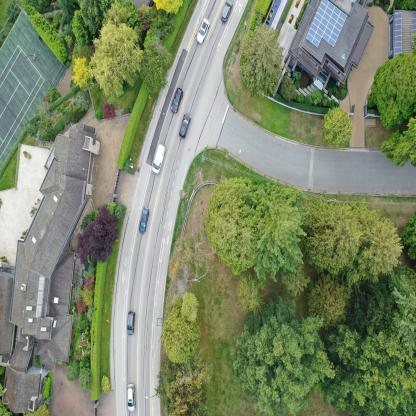Coniferous Tree: (250, 188, 310, 284), (150, 344, 202, 416), (307, 200, 357, 270), (96, 22, 140, 100), (354, 210, 402, 272), (240, 30, 282, 93), (370, 62, 416, 118), (379, 268, 416, 318), (141, 39, 174, 94), (310, 283, 346, 325), (161, 311, 195, 351), (82, 0, 110, 40), (234, 277, 262, 315), (286, 262, 304, 301), (55, 0, 78, 24), (407, 210, 416, 264)
Deciduous Tree: (241, 295, 328, 409), (212, 179, 270, 280), (375, 313, 416, 416), (328, 307, 366, 416), (80, 214, 120, 262), (322, 107, 354, 147), (72, 55, 94, 91), (154, 0, 184, 18)
